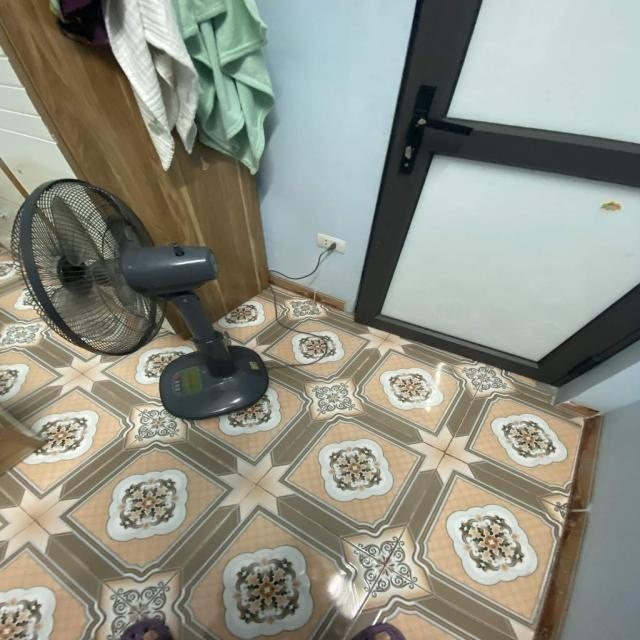outlet: (315, 233, 345, 254)
